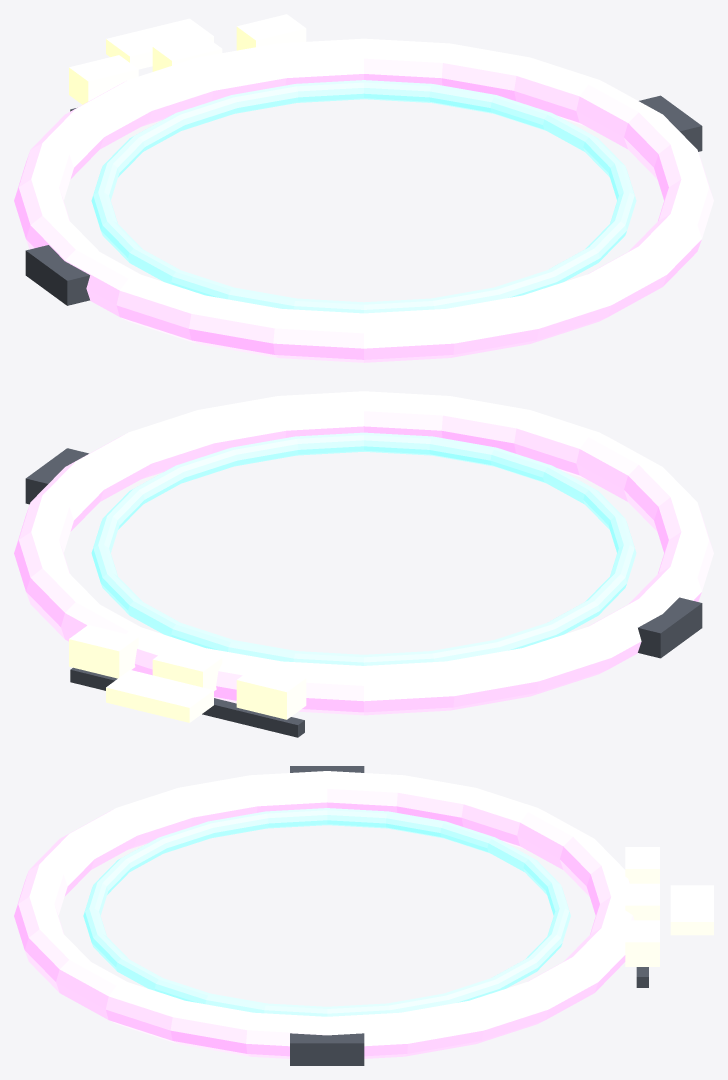
File: interact_acro_ring.glb
3 views of the same model, one above another, from view 1: azimuth 30°, elevation 25°; view 2: azimuth 150°, elevation 25°; view 3: azimuth 270°, elevation 25° (orthographic). The views are drawn at different scales.
Parts seen in each view (by area): view 1: interact_acro_ring; view 2: interact_acro_ring; view 3: interact_acro_ring.
Boxes of the visible parts, left/top/right/bottom form: interact_acro_ring: left=14, top=14, right=713, bottom=362; interact_acro_ring: left=14, top=391, right=713, bottom=737; interact_acro_ring: left=14, top=766, right=713, bottom=1065.
Bounding box in the file's own units: 5.3 × 0.39 × 5.65.
